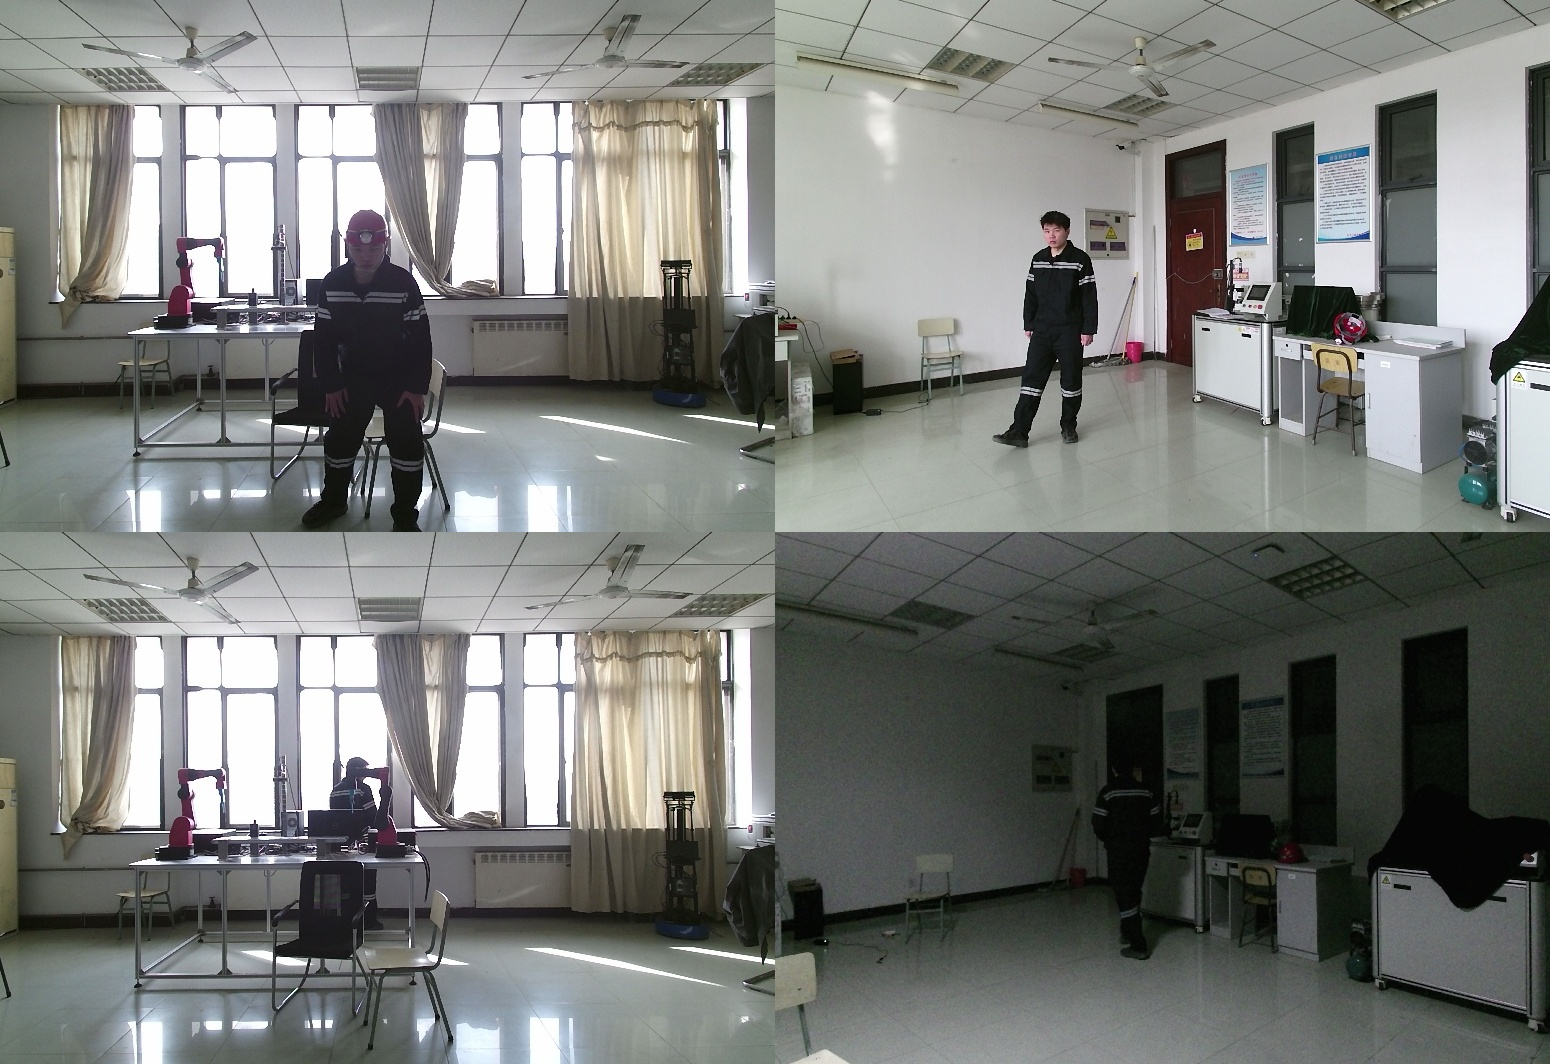person: (308, 211, 451, 532), (994, 213, 1108, 445), (1090, 750, 1175, 963), (332, 758, 392, 935)
